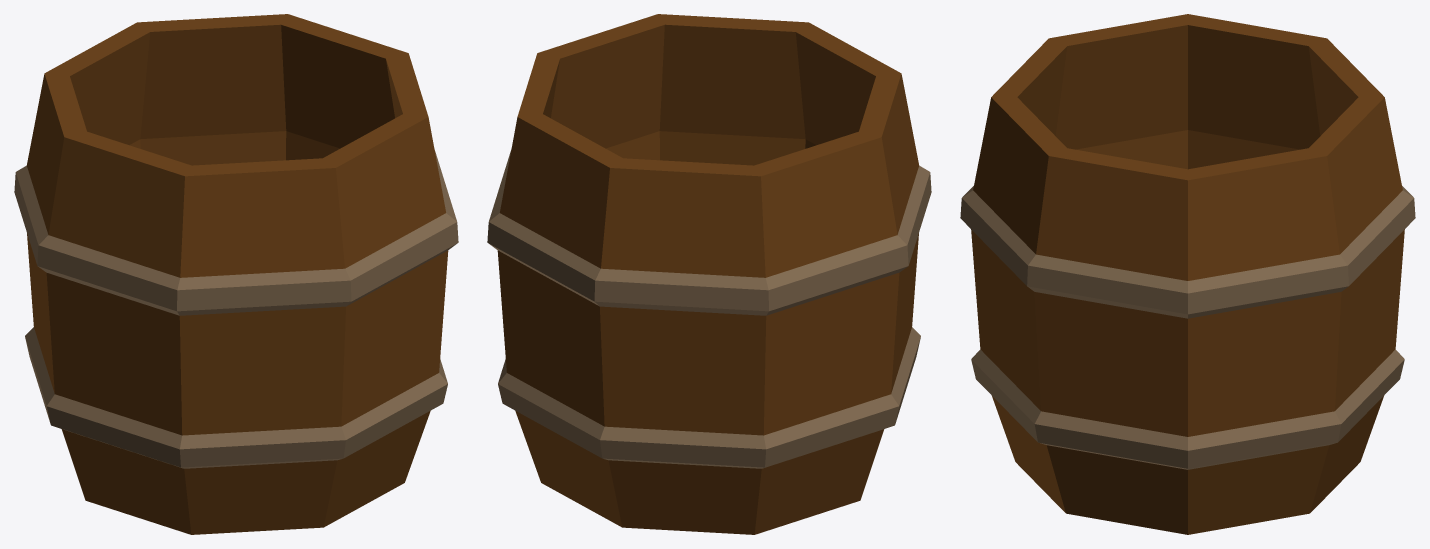
Rendered from OpenRopeBarrel.fbx.
3 views of the same model, side by side, from view 1: azimuth 30°, elevation 25°; view 2: azimuth 150°, elevation 25°; view 3: azimuth 270°, elevation 25° (orthographic).
Visible parts, largest first — view 1: OpenRopeBarrel; view 2: OpenRopeBarrel; view 3: OpenRopeBarrel.
Part boxes in pixels (<box>): OpenRopeBarrel: <box>14,14,458,534</box>; OpenRopeBarrel: <box>487,14,931,534</box>; OpenRopeBarrel: <box>960,14,1415,534</box>.
Size of the model in its own units: 65.28 by 57.74 by 65.28.
